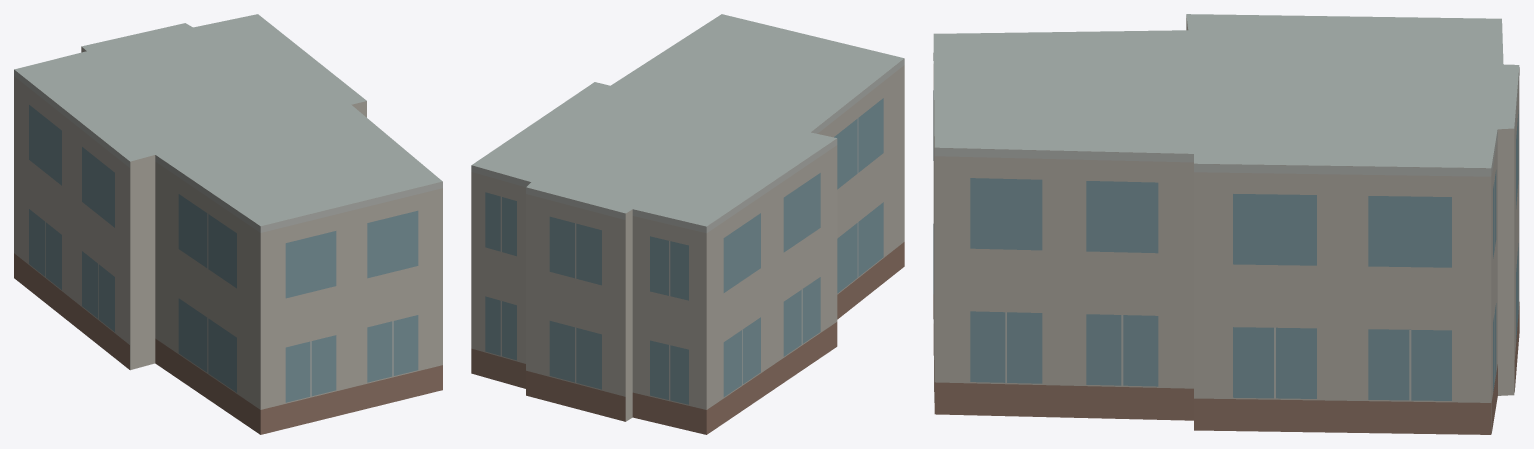
Rendered from survey-upis-32634111.glb.
The picture shows the model from 3 angles, left to right: view 1: azimuth 30°, elevation 25°; view 2: azimuth 150°, elevation 25°; view 3: azimuth 270°, elevation 25°; orthographic projection. The views are drawn at different scales.
Visible parts, largest first — view 1: survey-upis-32634111.tmp; view 2: survey-upis-32634111.tmp; view 3: survey-upis-32634111.tmp.
Part boxes in pixels (x1,y1,x2,y2): survey-upis-32634111.tmp: [14, 14, 442, 434]; survey-upis-32634111.tmp: [471, 14, 904, 434]; survey-upis-32634111.tmp: [933, 14, 1519, 434].
Bounding box in the file's own units: 9.43 × 7.6 × 15.15.
